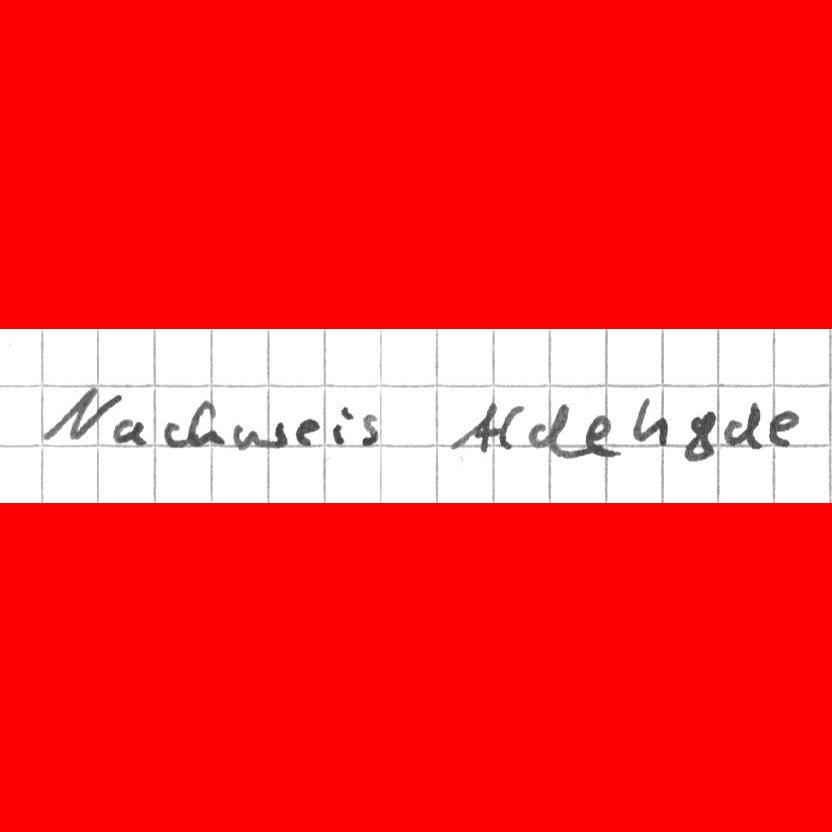Char: (40, 384, 122, 444), (443, 400, 500, 455), (528, 399, 571, 459), (628, 395, 673, 450), (185, 397, 226, 450), (722, 399, 763, 452), (230, 418, 290, 453), (680, 408, 717, 463), (579, 412, 619, 461), (497, 401, 525, 453), (765, 409, 800, 449), (109, 414, 153, 444), (330, 401, 353, 447), (358, 411, 383, 450), (293, 414, 321, 447), (161, 415, 185, 451)
